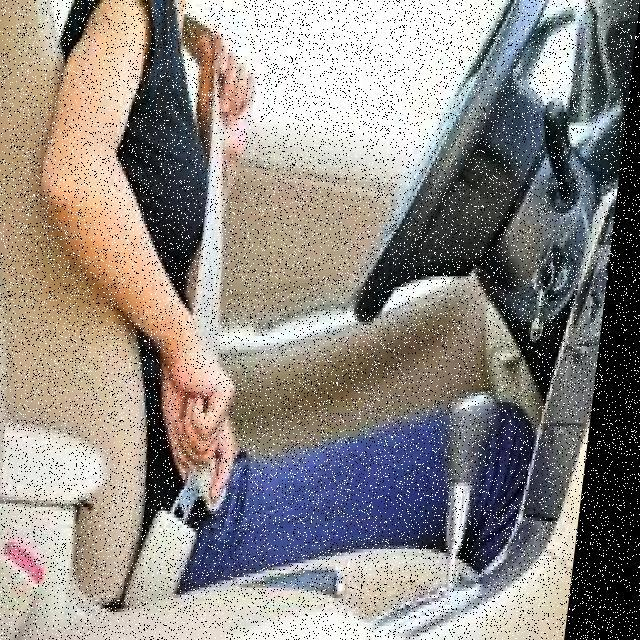seatbelt: (128, 21, 282, 545)
